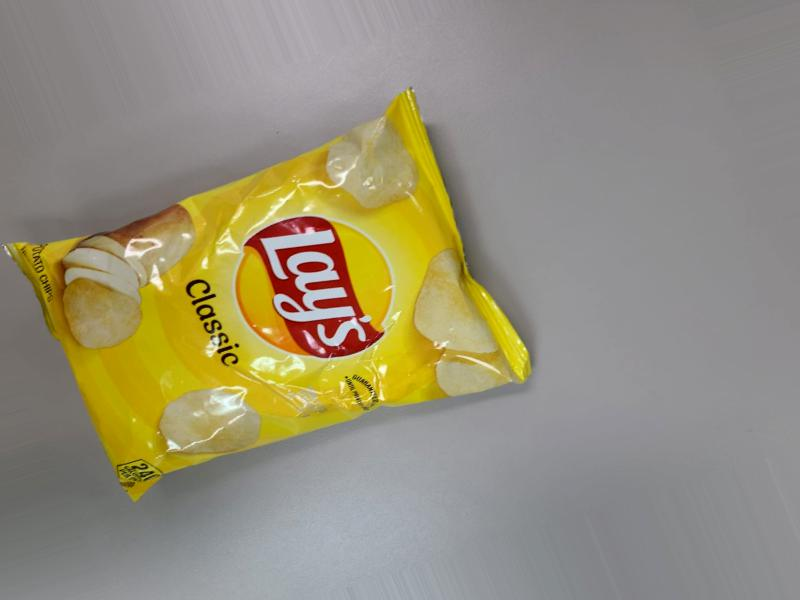lays: (36, 148, 587, 482)
